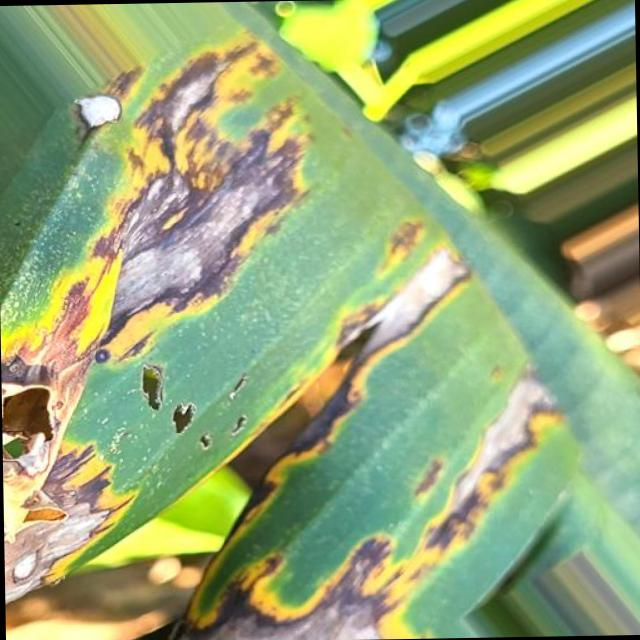Banana_Black_Sigatoka: (177, 230, 491, 640), (58, 34, 275, 358), (0, 358, 140, 628)
